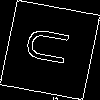U: (24, 24, 80, 69)
